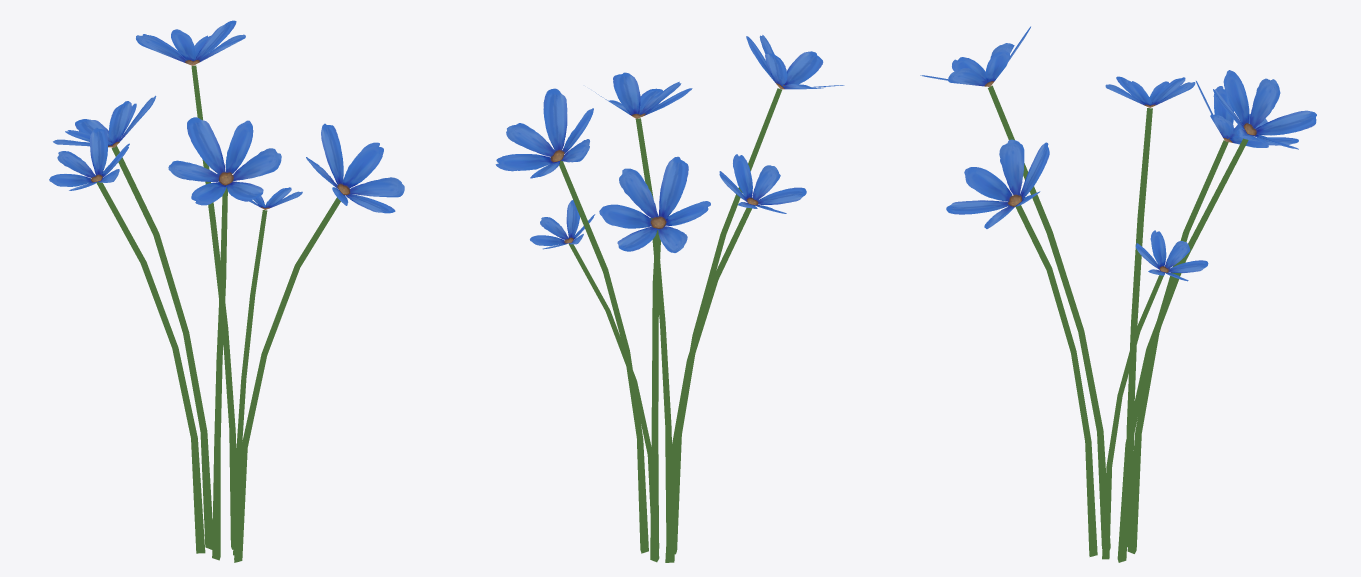
File: SM_Flower_03_02.fbx
The picture shows the model from 3 angles, left to right: view 1: azimuth 30°, elevation 25°; view 2: azimuth 150°, elevation 25°; view 3: azimuth 270°, elevation 25°; orthographic projection.
Parts seen in each view (by area): view 1: SM_Flower_03_02_LOD0; view 2: SM_Flower_03_02_LOD0; view 3: SM_Flower_03_02_LOD0.
Part boxes in pixels (x1,y1,x2,y2): SM_Flower_03_02_LOD0: [49, 20, 404, 562]; SM_Flower_03_02_LOD0: [495, 35, 844, 562]; SM_Flower_03_02_LOD0: [920, 26, 1316, 562].
Size of what is drawn, in the model's own units: 43.66 by 64.75 by 50.04.
